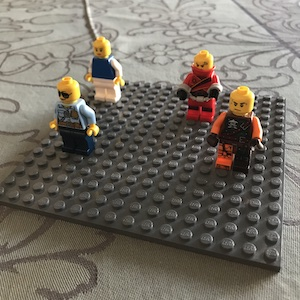Lego: (204, 86, 264, 170), (50, 76, 99, 154), (172, 50, 223, 123), (83, 35, 123, 104)
